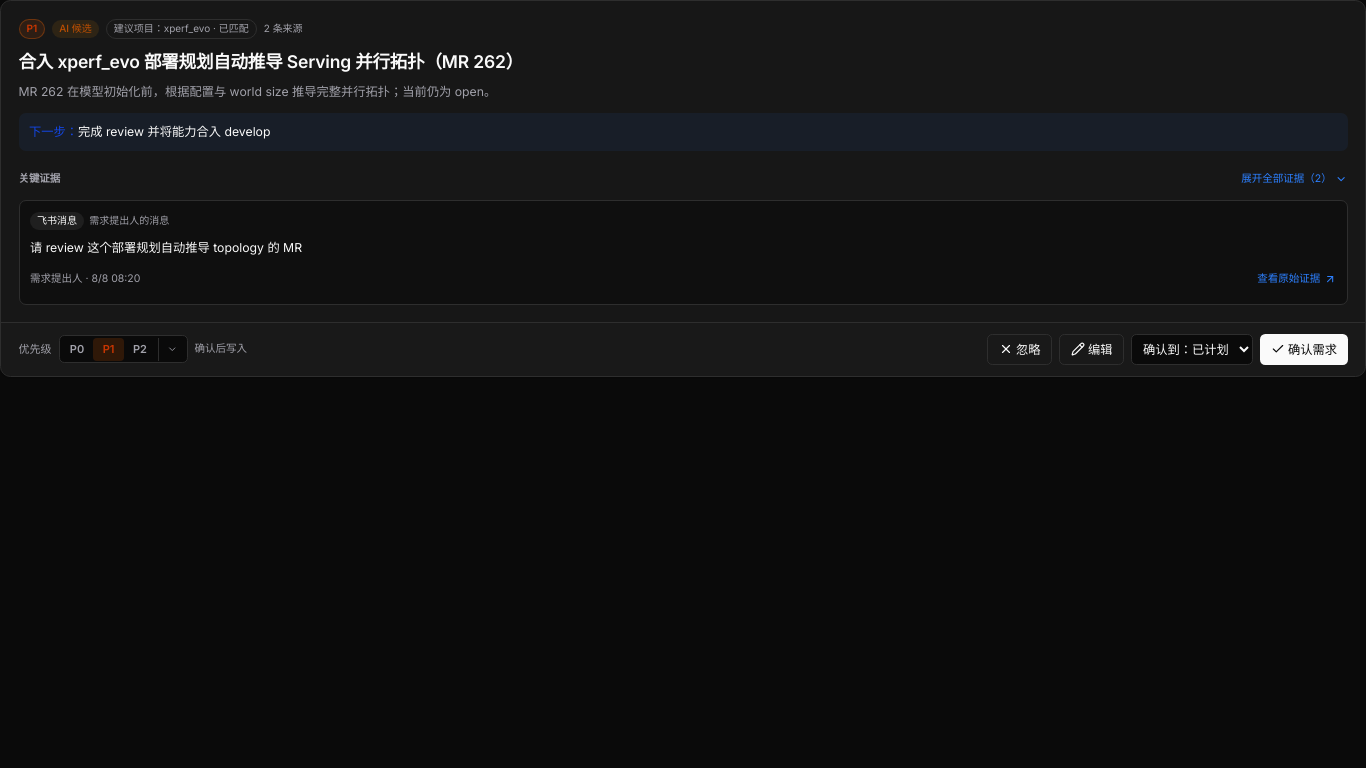
Test case: PendingCard › shows a complete preview before revealing the edit form
The image size is (1366, 768).
Expected: the heading "合入 xperf_evo 部署规划自动推导 Serving 并行拓扑（MR 262）" is shown, [18,50,523,72]
Expected: the text "MR 262 在模型初始化前，根据配置与 world size 推导完整并行拓扑；当前仍为 open。" is shown, [18,84,496,99]
Click the button "展开全部证据（2）". click: (1294,179)
box: [1241,165,1348,193]
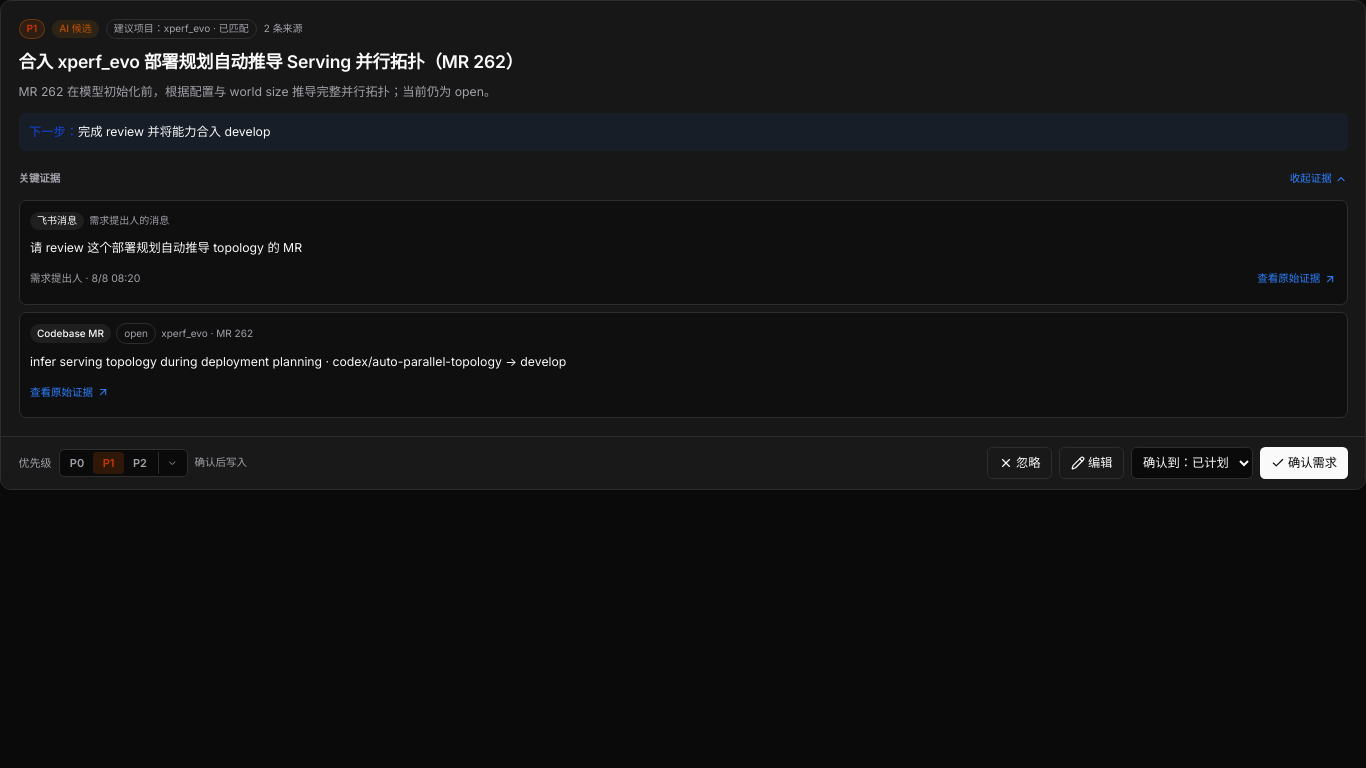
Expected: the text "infer serving topology during deployment planning · codex/auto-parallel-topology → develop" is shown, [30,354,566,368]
Expected: the text "xperf_evo · MR 262" is shown, [161,326,253,341]
Click the button "编辑". click: (1092,463)
box: [1059,447,1124,478]
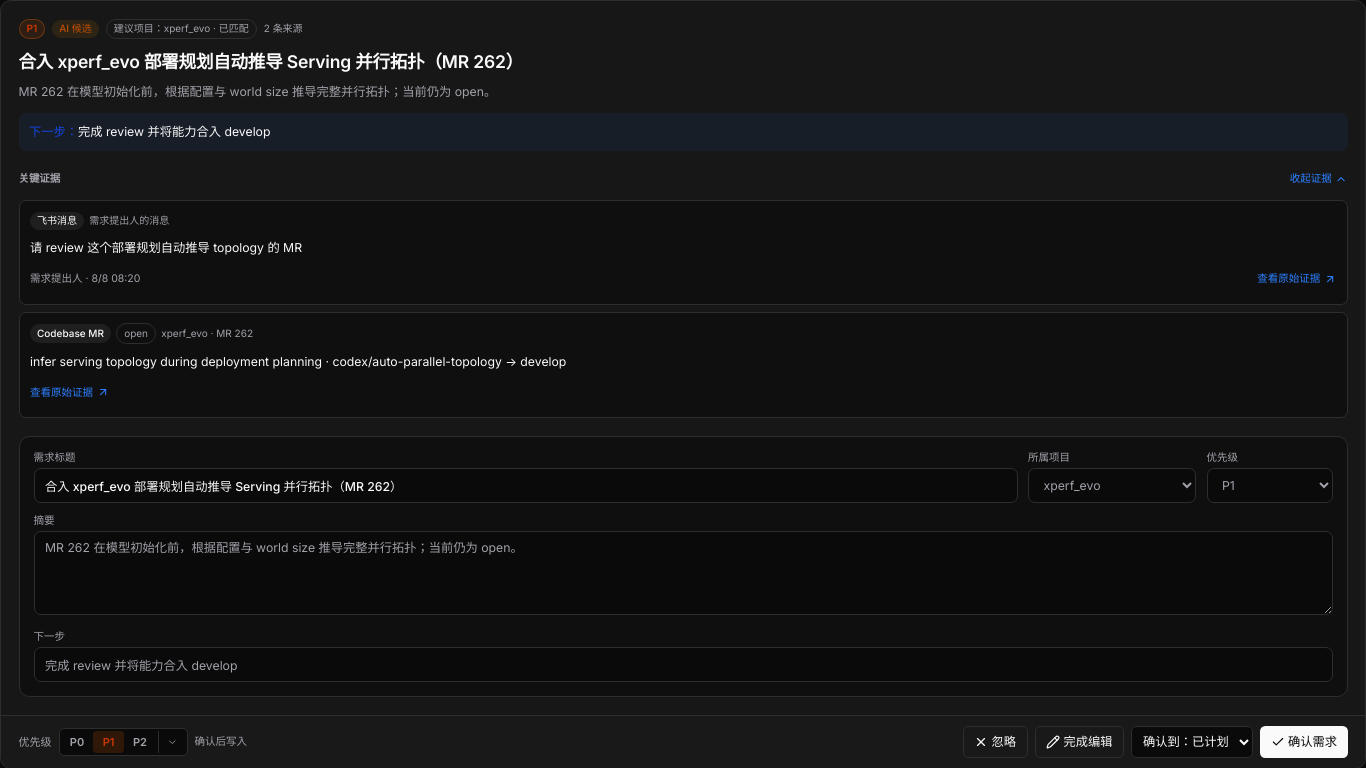
Expected: the field labelled "需求标题" holds "合入 xperf_evo 部署规划自动推导 Serving 并行拓扑（MR 262）", [34,468,1018,503]
Expected: the dropdown labelled "所属项目" shows "xperf_evo", [1028,468,1196,503]
Expected: the field labelled "下一步" holds "完成 review 并将能力合入 develop", [34,647,1332,682]
